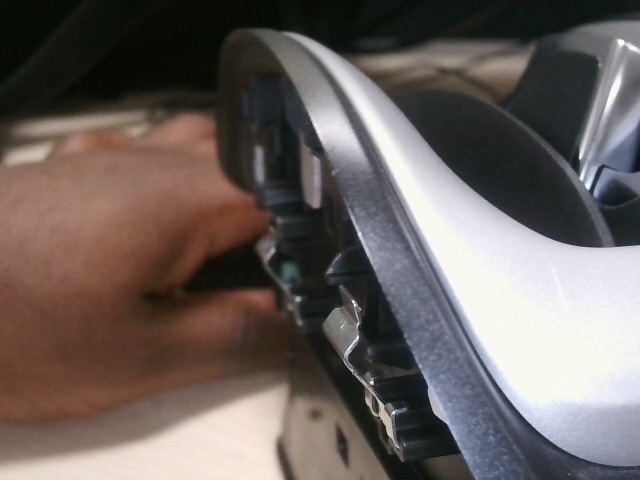NG: (319, 138, 360, 190), (545, 260, 575, 311)
